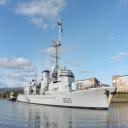Fragata: (17, 7, 120, 112)
